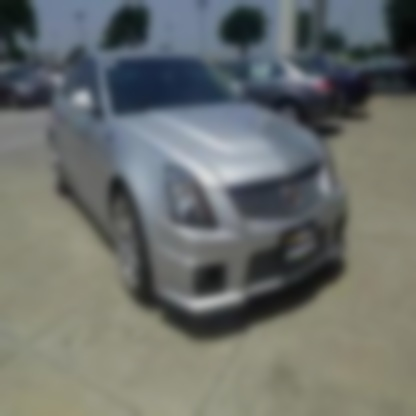Vehicle: (47, 51, 352, 322)
